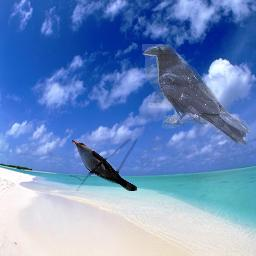Crow: (142, 44, 251, 147)
Cuckoo: (70, 139, 137, 191)
